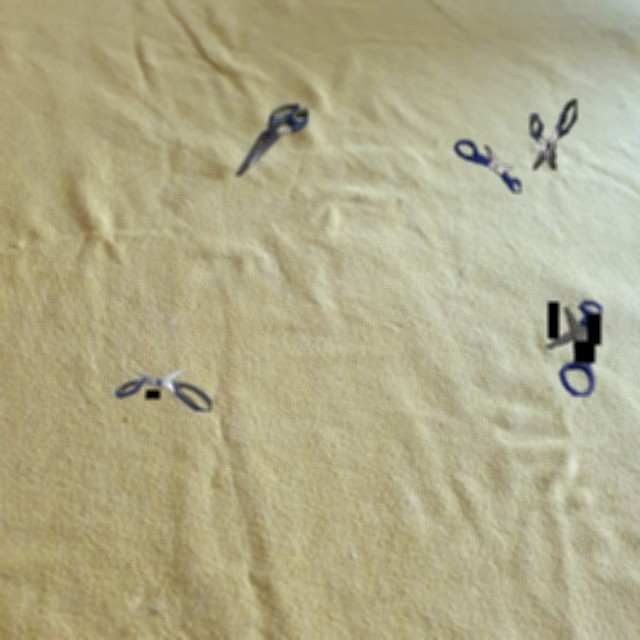scissors: (546, 300, 602, 396), (234, 104, 308, 176), (115, 367, 212, 411), (454, 139, 521, 193), (530, 99, 577, 170)
